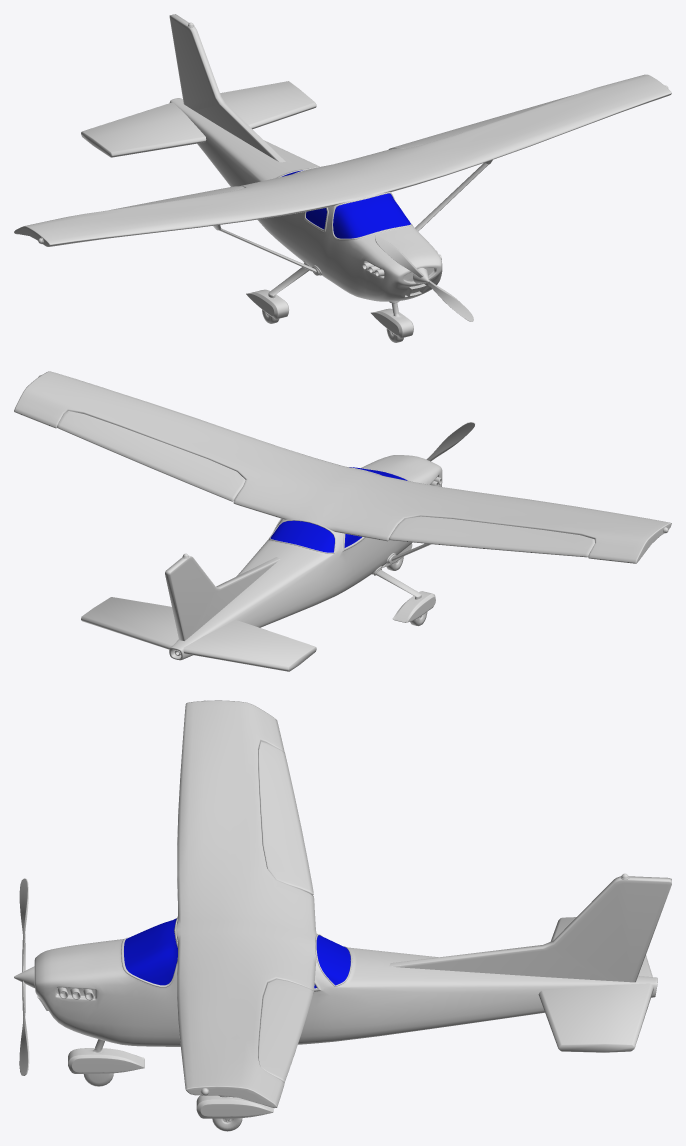
File: PlaneModel.fbx
The picture shows the model from 3 angles, top to bottom: view 1: azimuth 30°, elevation 25°; view 2: azimuth 150°, elevation 25°; view 3: azimuth 270°, elevation 25°; orthographic projection. The views are drawn at different scales.
Visible parts, largest first — view 1: plane_body, plane_propeller; view 2: plane_body, plane_propeller; view 3: plane_body, plane_propeller.
Part boxes in pixels (x1=…): plane_body: x1=14, y1=14, x2=671, y2=342; plane_propeller: x1=375, y1=235, x2=473, y2=321; plane_body: x1=14, y1=371, x2=671, y2=671; plane_propeller: x1=426, y1=422, x2=474, y2=461; plane_body: x1=34, y1=700, x2=671, y2=1131; plane_propeller: x1=14, y1=878, x2=34, y2=1075.
Size of the model in its own units: 341 by 86.29 by 242.
